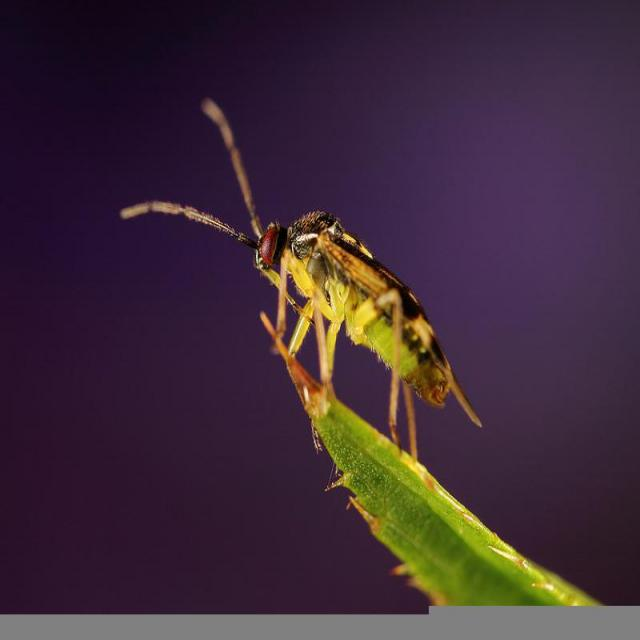Miridae-Adult-: (103, 86, 488, 464)
